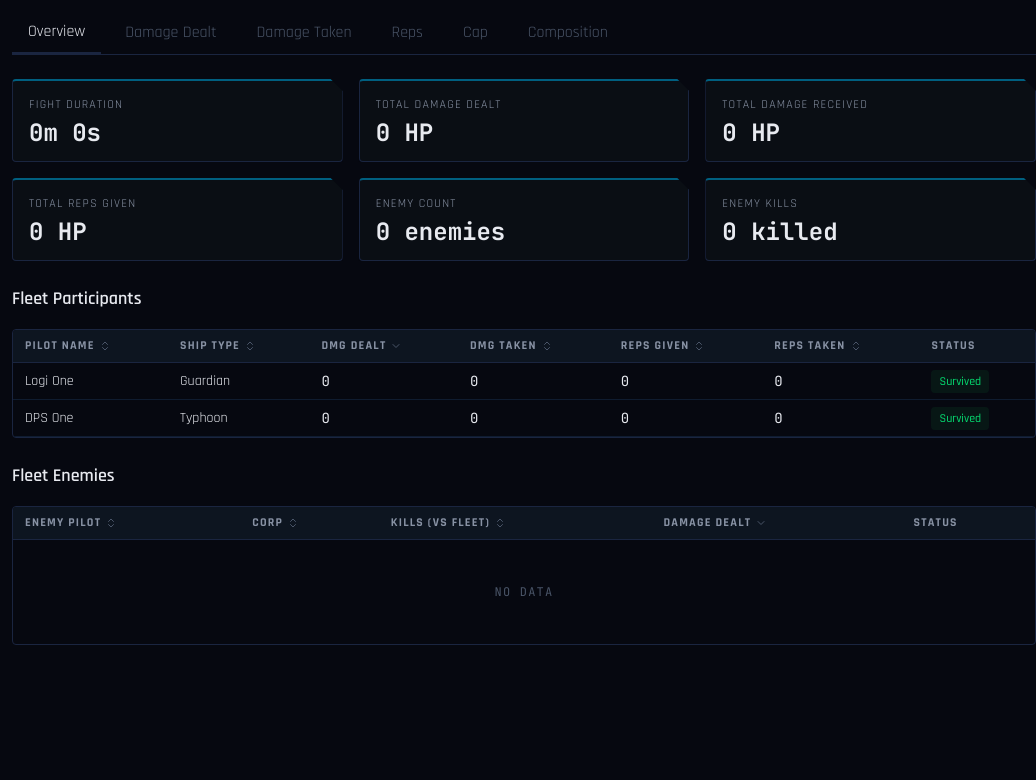
Test: FleetAnalysisTabs › CapTab › shows empty state when there are no cap events
The width and height of the screenshot is (1036, 780).
Click the button "Cap": coordinates (475, 33) [447,12,504,54]
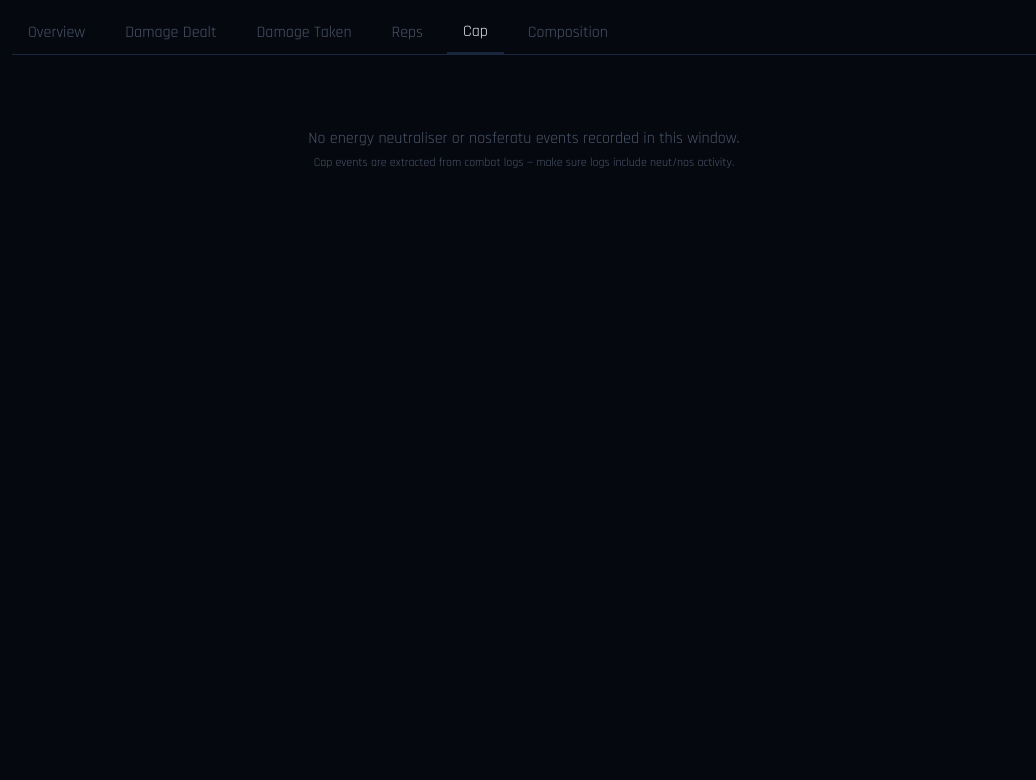
Result: the text "No energy neutraliser or nosferatu events recorded" is shown at [308,128,740,149]
